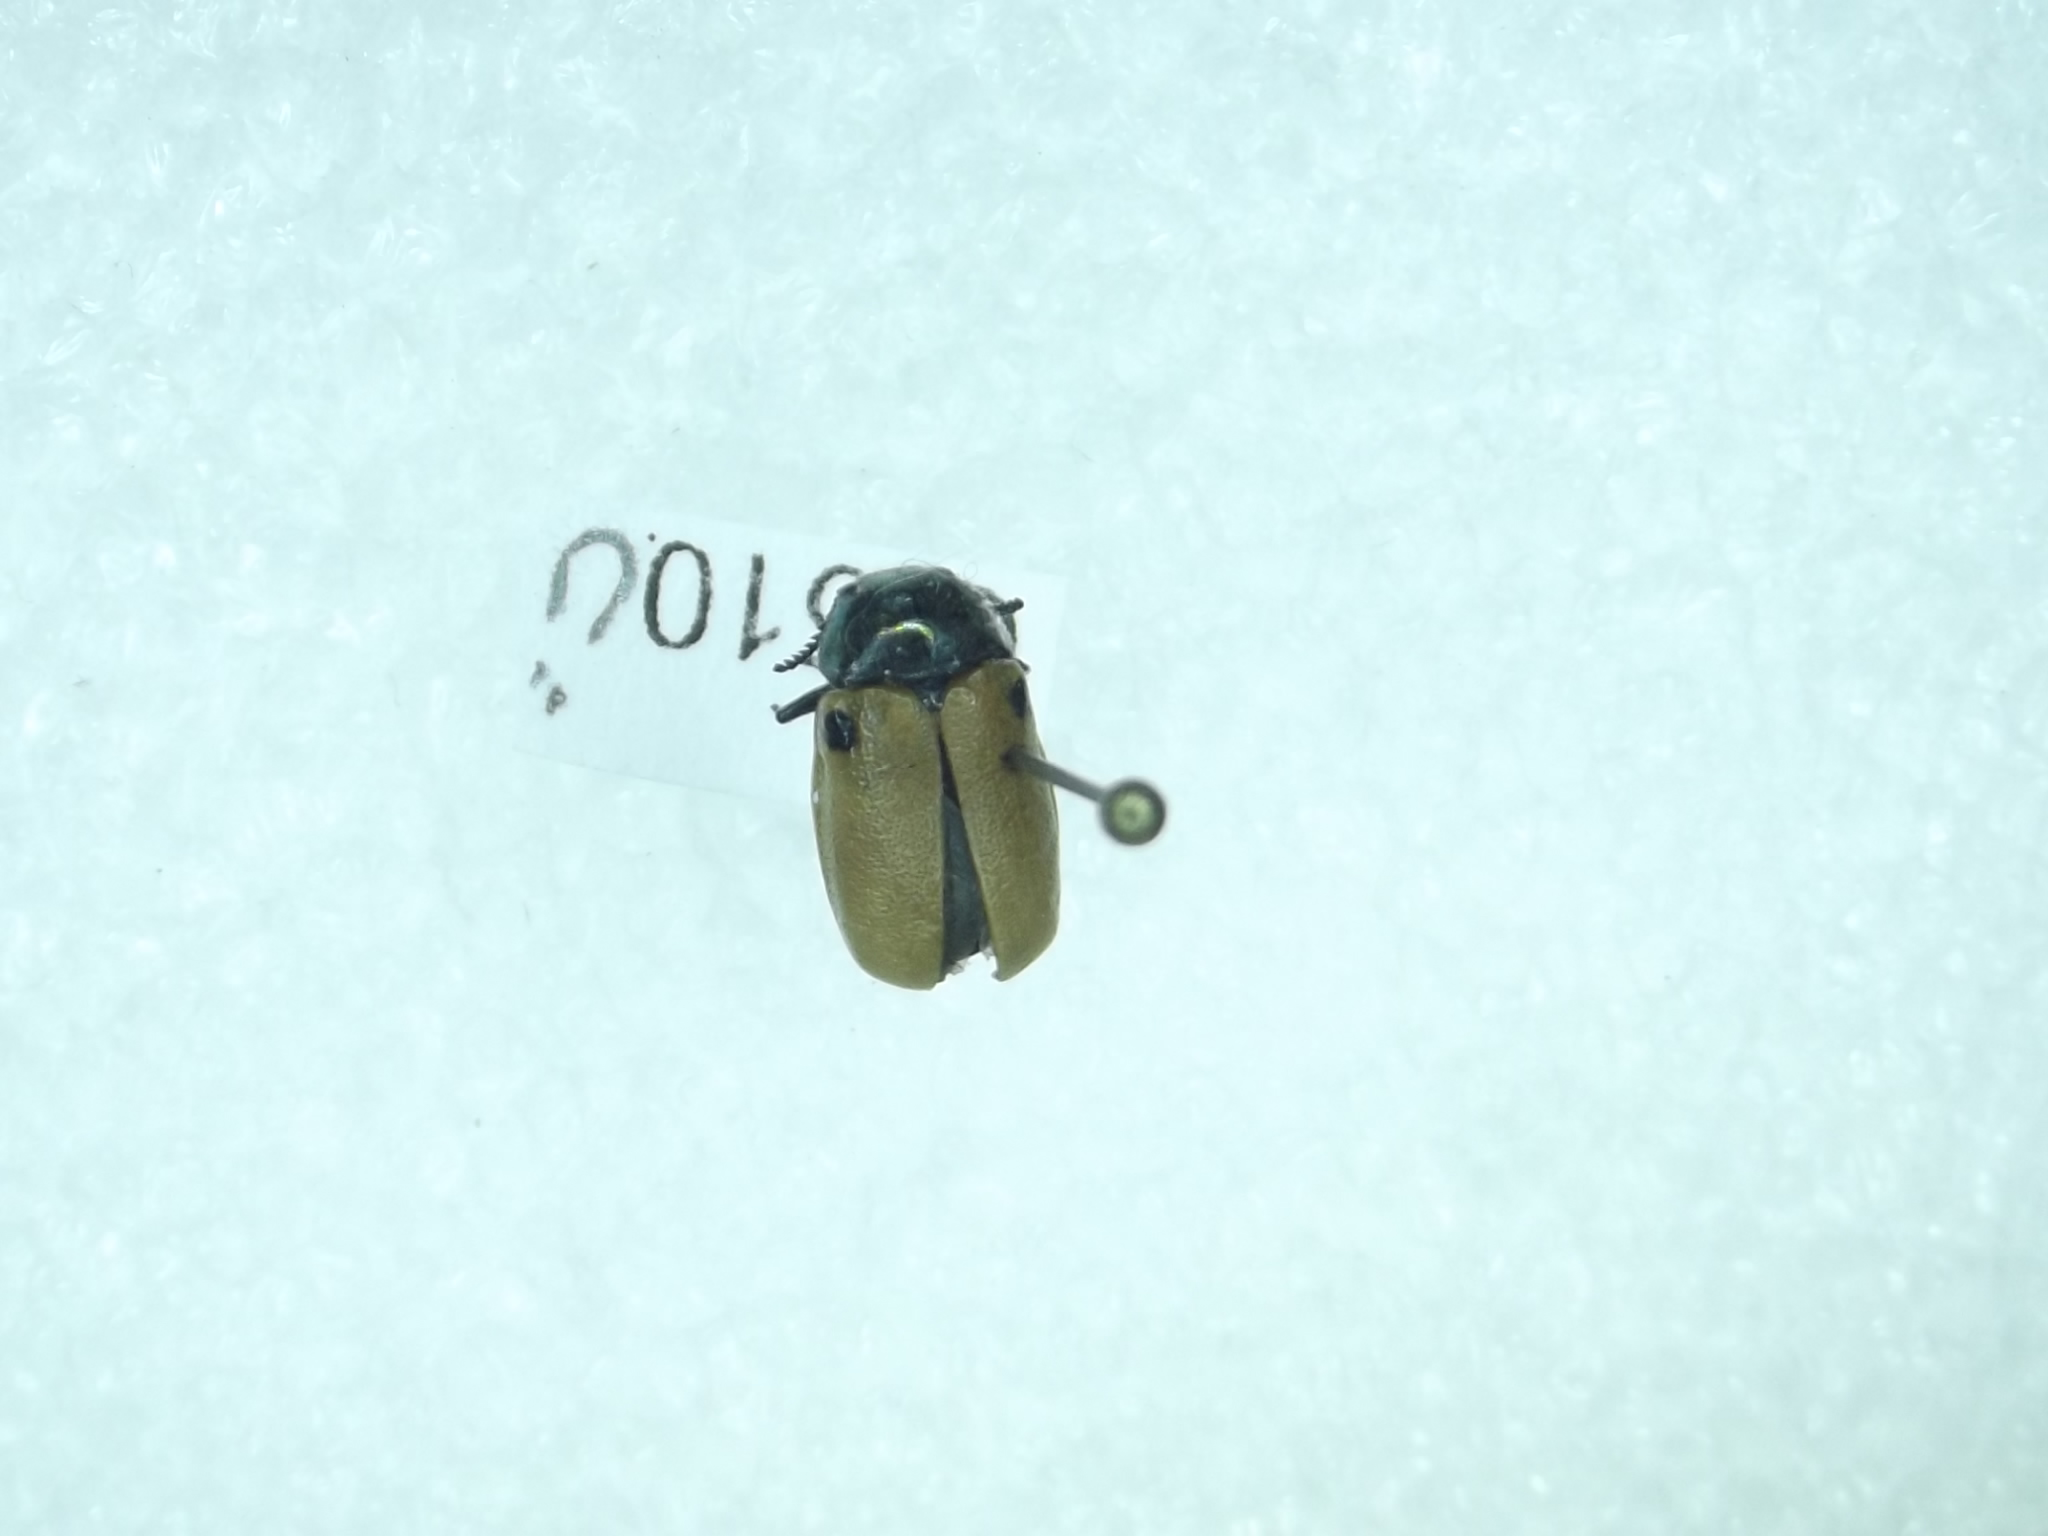Labidostomis_longimana: (769, 561, 1085, 987)
